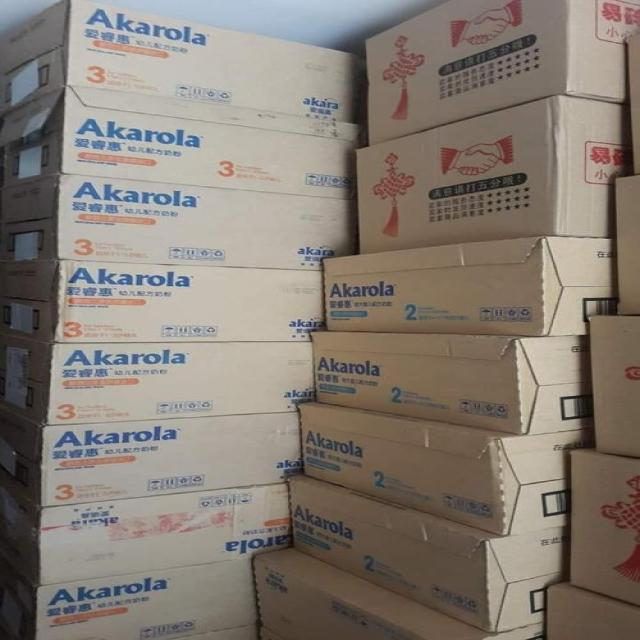box: (0, 1, 367, 124), (293, 474, 570, 634), (357, 94, 631, 253), (0, 86, 366, 199), (364, 0, 640, 147), (300, 404, 594, 537), (0, 173, 357, 269), (0, 408, 306, 508), (0, 481, 294, 585), (321, 236, 617, 336), (0, 332, 315, 425), (312, 332, 593, 435), (253, 548, 545, 640), (0, 261, 326, 343), (0, 556, 259, 640), (568, 451, 640, 607), (591, 316, 640, 458), (547, 584, 640, 640), (614, 176, 640, 315), (622, 36, 640, 173)
